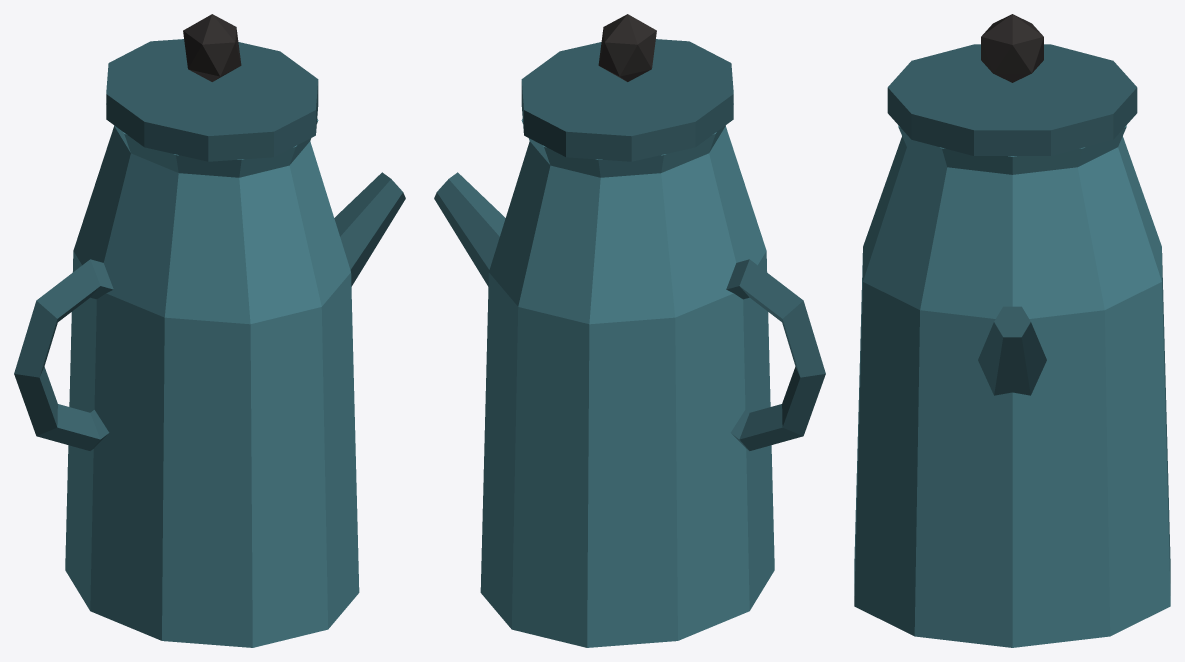
File: CoffeePot.fbx
3 views of the same model, side by side, from view 1: azimuth 30°, elevation 25°; view 2: azimuth 150°, elevation 25°; view 3: azimuth 270°, elevation 25° (orthographic).
Visible parts, largest first — view 1: CoffeePot; view 2: CoffeePot; view 3: CoffeePot.
Boxes of the visible parts, bbox=[...] form: CoffeePot: bbox=[14, 14, 405, 647]; CoffeePot: bbox=[434, 14, 825, 647]; CoffeePot: bbox=[854, 14, 1170, 647].
Bounding box in the file's own units: 1 × 1.4 × 0.7.
